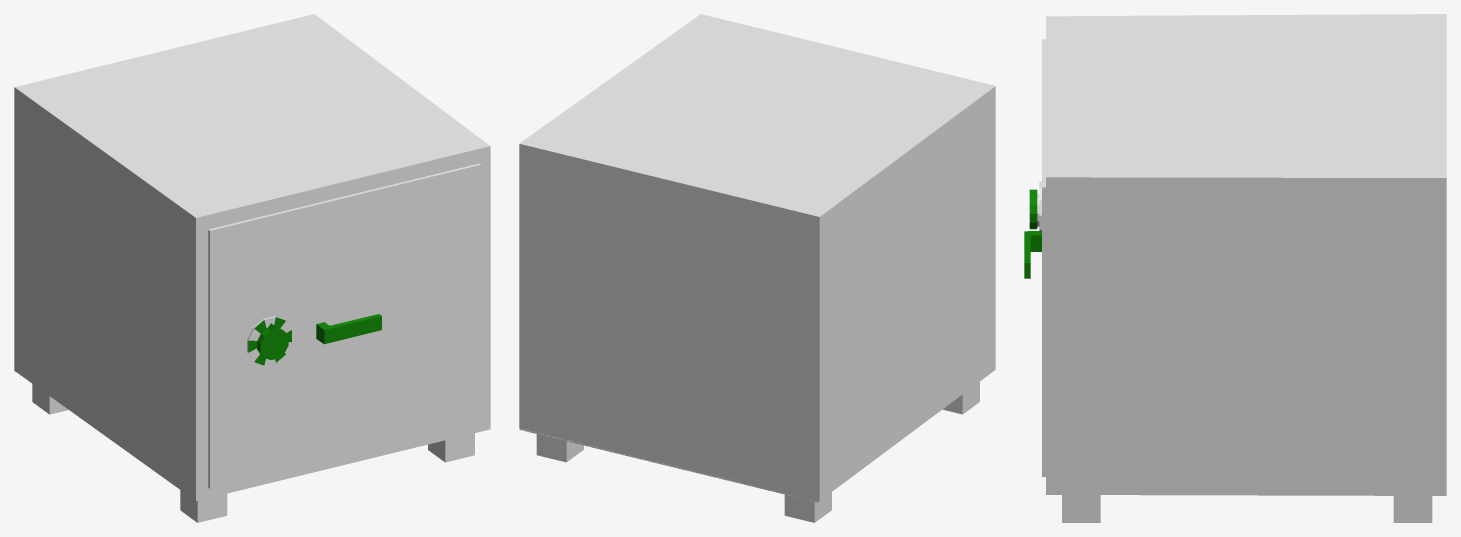
Rendered from Safe.fbx.
3 renders of one model, left to right at view 1: azimuth 30°, elevation 25°; view 2: azimuth 150°, elevation 25°; view 3: azimuth 270°, elevation 25°, orthographic. The views are drawn at different scales.
Parts seen in each view (by area): view 1: Safe; view 2: Safe; view 3: Safe.
Boxes of the visible parts, x1,y1,x2,y2 form: Safe: (14,14,490,522); Safe: (519,14,995,522); Safe: (1024,14,1446,522).
Bounding box in the file's own units: 0.4878 × 0.4863 × 0.5307.
